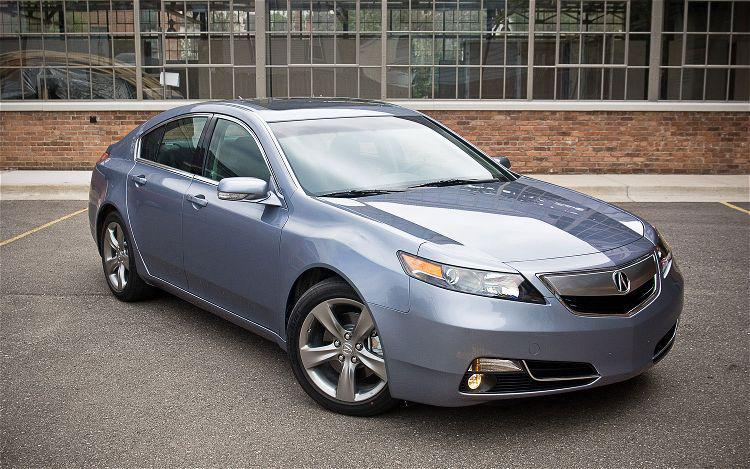Car: (76, 71, 698, 437)
